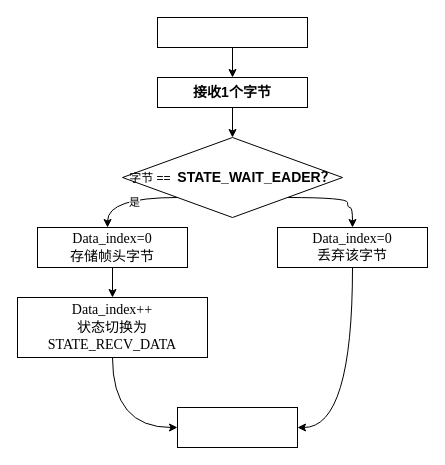
This 445x465 diagram has some shape labels left out. Here are the shapes that lost their labels. From the top down, the centre of each, then its label:
the point at 232,32: STATE_WAIT_EADER
the point at 237,427: 等待下一个字节
